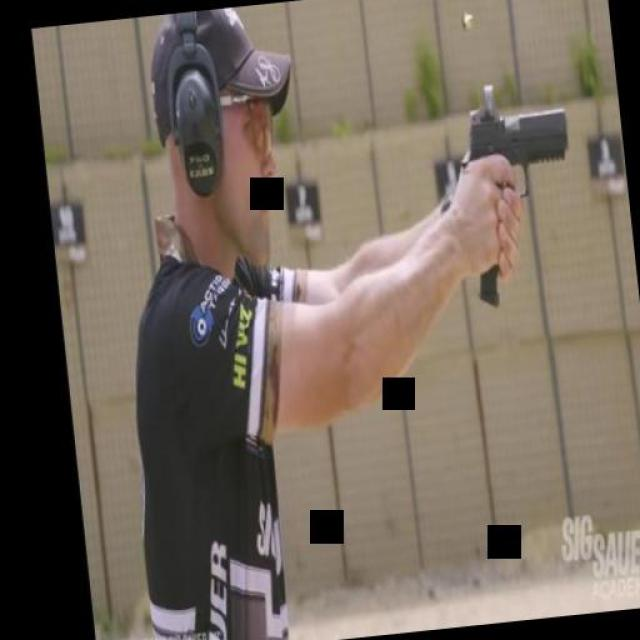gun: (455, 91, 586, 309)
